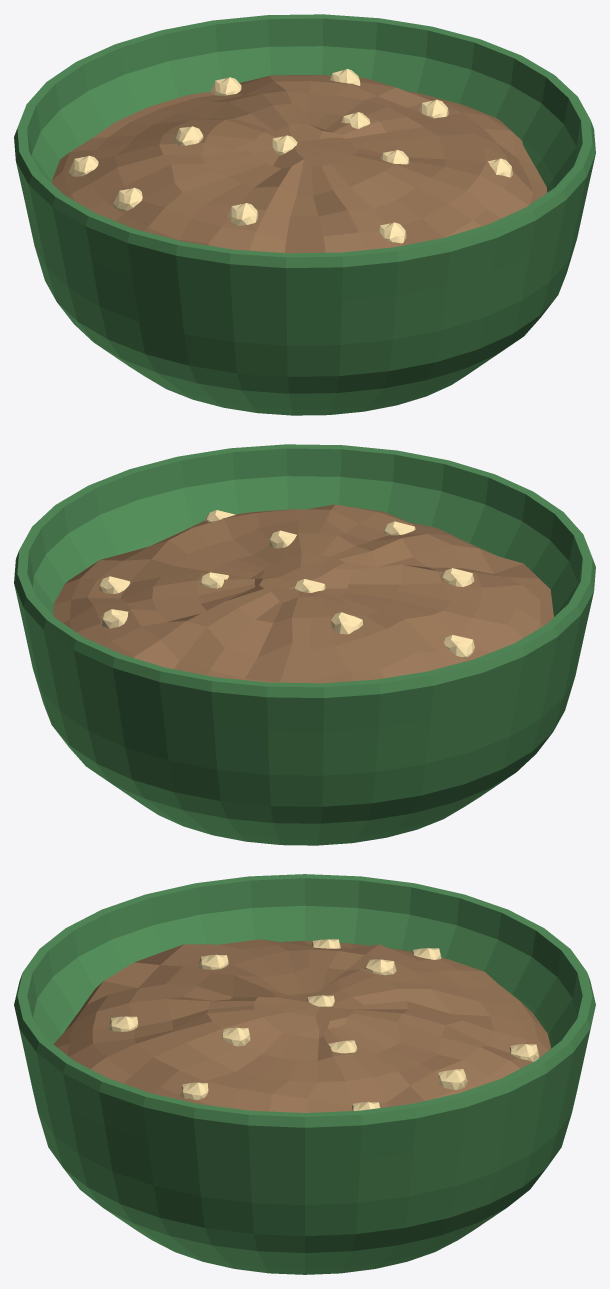
The model's file is whiteCookieDoughBowl.fbx.
3 renders of one model, top to bottom at view 1: azimuth 30°, elevation 25°; view 2: azimuth 150°, elevation 25°; view 3: azimuth 270°, elevation 25°, orthographic.
Parts seen in each view (by area): view 1: Cylinder, Sphere; view 2: Cylinder, Sphere; view 3: Cylinder, Sphere.
Part boxes in pixels (x1,y1,x2,y2): Cylinder: (14,14,595,415); Sphere: (52,69,547,253); Cylinder: (14,444,595,845); Sphere: (53,504,553,683); Cylinder: (14,874,595,1274); Sphere: (53,939,550,1112).
Size of the model in its own units: 652 by 249 by 652.
